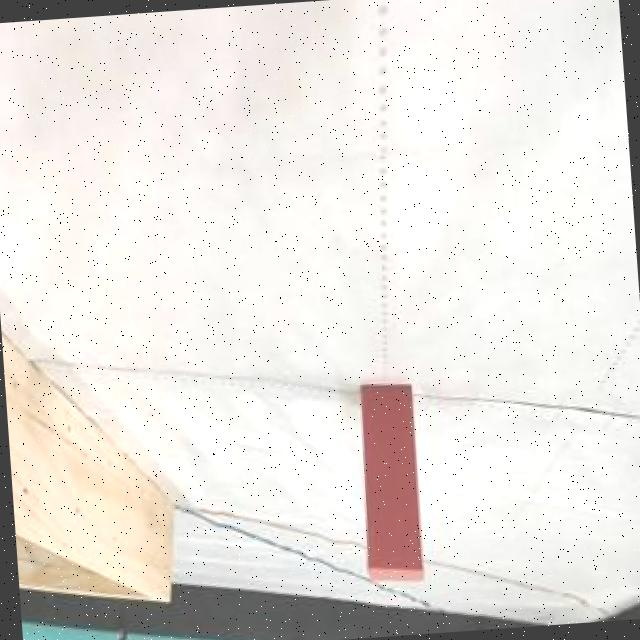redbox: (351, 380, 425, 582)
